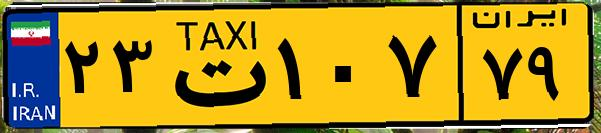0: (330, 28, 385, 110)
1: (270, 28, 330, 110)
2: (57, 26, 110, 100)
3: (110, 28, 158, 98)
7: (385, 28, 445, 110), (475, 38, 525, 113)
9: (525, 38, 570, 115)
ت: (158, 12, 270, 120)
